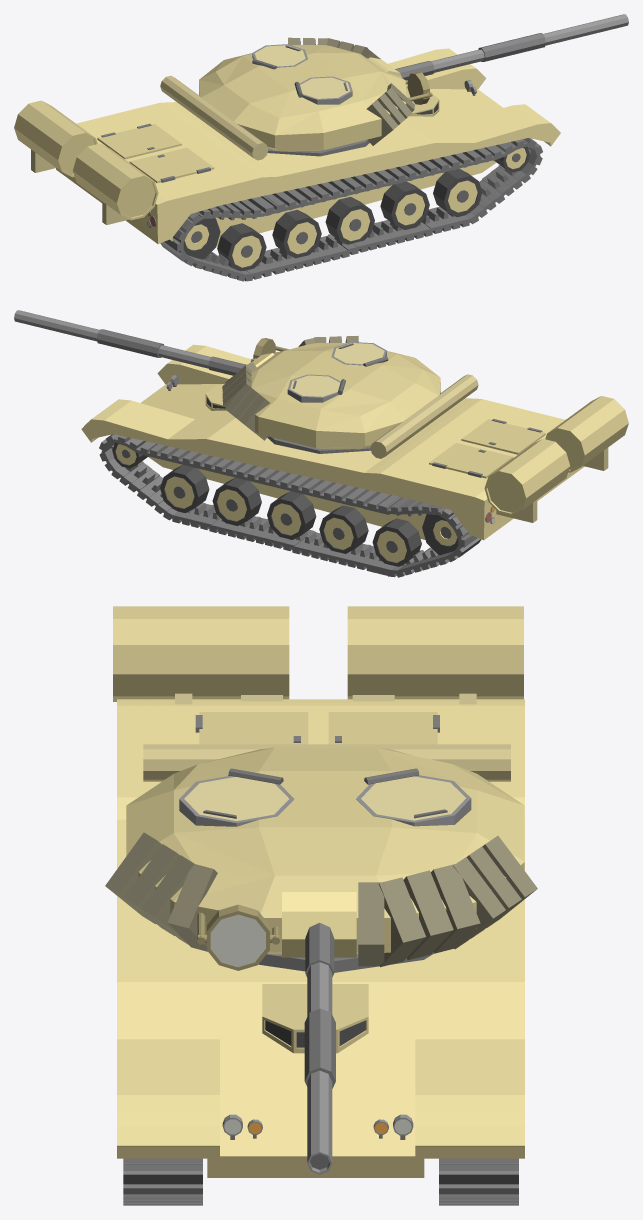
Rendered from kar20.fbx.
3 renders of one model, top to bottom at view 1: azimuth 30°, elevation 25°; view 2: azimuth 150°, elevation 25°; view 3: azimuth 270°, elevation 25°, orthographic. The views are drawn at different scales.
Visible parts, largest first — view 1: Boole_8, Sphere_1, Cylinder_15, Cylinder_2_2, Cylinder_5, Cylinder_6, Cylinder_4, Cylinder_2_3, Cylinder_1_2, Cylinder_9; view 2: Boole_8, Sphere_1, Cylinder_15, Cylinder_4_2, Cylinder_5_2, Cylinder_3_2, Cylinder_6_2, Cylinder_1_3, Cylinder_1_4, Cylinder_9_2; view 3: Boole_8, Sphere_1, Cylinder_15, Boole_90, Boole_90_2, Boole_91, Boole_91_2, Boole_89, Boole_89_2.
Part boxes in pixels (x1,y1,x2,y2): Boole_8: [14, 48, 560, 246]; Sphere_1: [160, 37, 432, 160]; Cylinder_15: [368, 14, 628, 80]; Cylinder_2_2: [272, 209, 321, 258]; Cylinder_5: [380, 181, 429, 229]; Cylinder_6: [433, 168, 482, 217]; Cylinder_4: [325, 196, 374, 244]; Cylinder_2_3: [217, 223, 266, 271]; Cylinder_1_2: [173, 218, 220, 259]; Cylinder_9: [494, 146, 530, 172]; Boole_8: [81, 344, 628, 540]; Sphere_1: [222, 335, 478, 458]; Cylinder_15: [14, 310, 274, 375]; Cylinder_4_2: [267, 491, 316, 539]; Cylinder_5_2: [212, 477, 261, 525]; Cylinder_3_2: [319, 505, 368, 553]; Cylinder_6_2: [160, 465, 209, 513]; Cylinder_1_3: [372, 518, 421, 566]; Cylinder_1_4: [422, 514, 468, 555]; Cylinder_9_2: [112, 442, 147, 468]; Boole_8: [113, 606, 524, 1177]; Sphere_1: [105, 744, 537, 970]; Cylinder_15: [282, 891, 356, 1174]; Boole_90: [123, 1163, 202, 1184]; Boole_90_2: [439, 1163, 518, 1184]; Boole_91: [123, 1158, 202, 1170]; Boole_91_2: [439, 1158, 518, 1170]; Boole_89: [123, 1184, 202, 1194]; Boole_89_2: [439, 1184, 518, 1194].
Size of the model in its own units: 1123 by 286 by 376.
